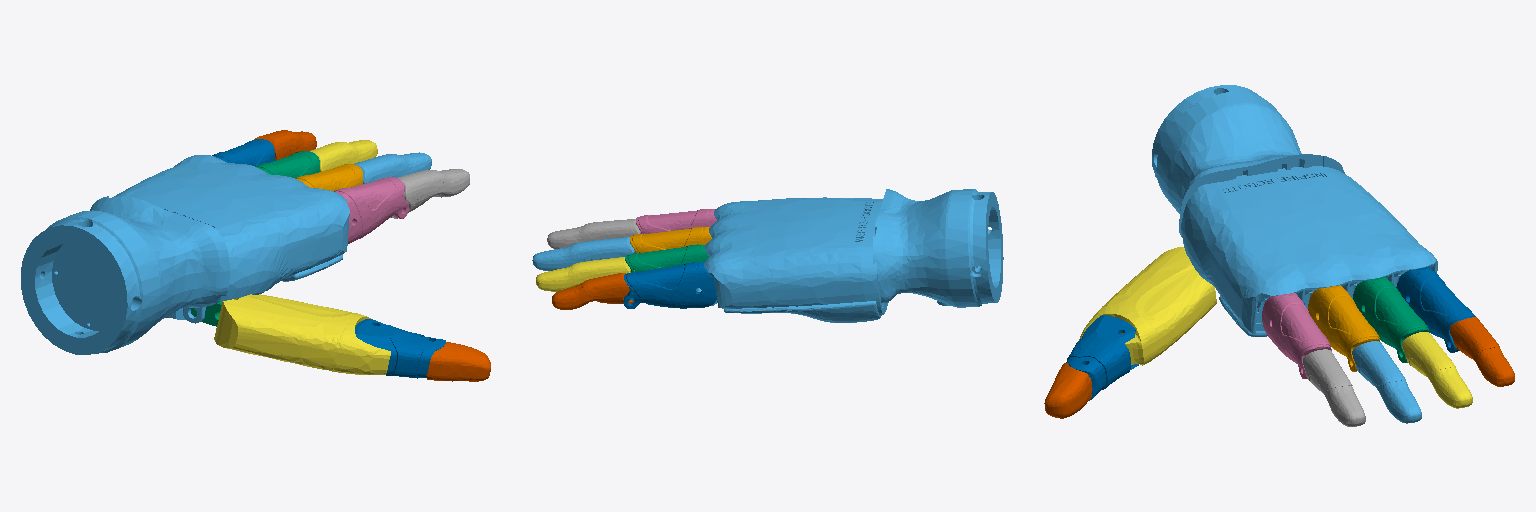
URDF robot description (inspire_hand_left):
<robot name="inspire_hand_left">
  
  <link name="base" />
  <joint name="base_joint" type="fixed">
    <parent link="base" />
    <child link="hand_base_link" />

    <origin xyz="-0.05 -0.01 0.02" rpy="-1.67159 -1.67159 -2.64159" /> 
  </joint>
  <link name="hand_base_link">
    <parent link="base" />
    <inertial>
      <origin xyz="-0.0025264 -0.066047 -0.0019598" rpy="0 0 0" />
      <mass value="0.14143" />
      <inertia ixx="0.00012281" ixy="2.1711E-06" ixz="1.7709E-06" iyy="8.3832E-05" iyz="-1.6551E-06" izz="7.6663E-05" />
    </inertial>
    <visual>
      <origin xyz="0 0 0" rpy="0 0 0" />
      <geometry>
        <mesh filename="meshes/visual/left_base_link.obj" />
      </geometry>
    </visual>
    <collision>
      <origin xyz="0 -0.0136 0" rpy="1.57079 0 0" />
      <geometry>
        <cylinder length="0.0278" radius="0.028" />
      </geometry>
    </collision>
    <collision>
      <origin xyz="-0.0032 -0.038 0" rpy="0 0 0" />
      <geometry>
        <box size="0.0391 0.0202 0.0574" />
      </geometry>
    </collision>
    <collision>
      <origin xyz="-0.0032 -0.0682 0" rpy="0 0 0" />
      <geometry>
        <box size="0.0391 0.04 0.0814" />
      </geometry>
    </collision>
    <collision>
      <origin xyz="0 -0.1081 0" rpy="0 0 0" />
      <geometry>
        <box size="0.0322 0.04 0.0814" />
      </geometry>
    </collision>
    <collision>
      <origin xyz="-0.0016 -0.1340 -0.0309" rpy="0 0 0" />
      <geometry>
        <box size="0.0125 0.0111 0.0089" />
      </geometry>
    </collision>
    <collision>
      <origin xyz="-0.0016 -0.1340 -0.0118" rpy="0 0 0" />
      <geometry>
        <box size="0.0125 0.0111 0.0089" />
      </geometry>
    </collision>
    <collision>
      <origin xyz="-0.0016 -0.1340 0.0070" rpy="0 0 0" />
      <geometry>
        <box size="0.0125 0.0111 0.0089" />
      </geometry>
    </collision>
    <collision>
      <origin xyz="-0.0016 -0.1340 0.0262" rpy="0 0 0" />
      <geometry>
        <box size="0.0125 0.0111 0.0089" />
      </geometry>
    </collision>
  </link>
  <link name="thumb_proximal_base">
    <inertial>
      <origin xyz="0.0048817 0.0009382 -0.00722" rpy="0 0 0" />
      <mass value="0.0018869" />
      <inertia ixx="5.816E-08" ixy="-1.4539E-08" ixz="-4.491E-09" iyy="7.9161E-08" iyz="-1.8727E-09" izz="6.7433E-08" />
    </inertial>
    <visual>
      <origin xyz="0 0 0" rpy="0 0 0" />
      <geometry>
        <mesh filename="meshes/visual/left_thumb_proximal_base.obj" />
      </geometry>
    </visual>
    <collision>
      <origin xyz="0 0 0" rpy="0 0 0" />
      <geometry>
        <mesh filename="meshes/collision/left_thumb_proximal_base.obj" />
      </geometry>
    </collision>
  </link>
  <joint name="thumb_proximal_yaw_joint" type="revolute">
    <origin xyz="-0.01696 -0.0691 0.02045" rpy="1.5708 -1.5708 0" />
    <parent link="hand_base_link" />
    <child link="thumb_proximal_base" />
    <axis xyz="0 0 1" />
    <limit lower="0" upper="1.308" effort="1" velocity="0.5" />
  </joint>
  <link name="thumb_proximal">
    <inertial>
      <origin xyz="0.021932 -0.012785 -0.0080386" rpy="0 0 0" />
      <mass value="0.0066075" />
      <inertia ixx="1.5686E-06" ixy="7.8296E-07" ixz="8.9143E-10" iyy="1.7353E-06" iyz="1.0191E-09" izz="2.786E-06" />
    </inertial>
    <visual>
      <origin xyz="0 0 0" rpy="0 0 0" />
      <geometry>
        <mesh filename="meshes/visual/left_thumb_proximal.obj" />
      </geometry>
    </visual>
    <collision>
      <origin xyz="0 0 0" rpy="0 0 0" />
      <geometry>
        <mesh filename="meshes/collision/left_thumb_proximal.obj" />
      </geometry>
    </collision>
  </link>
  <joint name="thumb_proximal_pitch_joint" type="revolute">
    <origin xyz="0.0099867 0.0098242 -0.0089" rpy="-1.5708 0 0.16939" />
    <parent link="thumb_proximal_base" />
    <child link="thumb_proximal" />
    <axis xyz="0 0 -1" />
    <limit lower="0" upper="0.6" effort="1" velocity="0.5" />
  </joint>
  <link name="thumb_intermediate">
    <inertial>
      <origin xyz="0.0095544 0.0016282 -0.0071997" rpy="0 0 0" />
      <mass value="0.0037847" />
      <inertia ixx="3.6981E-07" ixy="9.8581E-08" ixz="-4.7469E-12" iyy="3.2394E-07" iyz="-1.0939E-12" izz="4.6531E-07" />
    </inertial>
    <visual>
      <origin xyz="0 0 0" rpy="0 0 0" />
      <geometry>
        <mesh filename="meshes/visual/left_thumb_intermediate.obj" />
      </geometry>
    </visual>
    <collision>
      <origin xyz="0 0 0" rpy="0 0 0" />
      <geometry>
        <mesh filename="meshes/collision/left_thumb_intermediate.obj" />
      </geometry>
    </collision>
  </link>
  <joint name="thumb_intermediate_joint" type="revolute">
    <origin xyz="0.04407 -0.034553 -0.0008" rpy="0 0 0" />
    <parent link="thumb_proximal" />
    <child link="thumb_intermediate" />
    <axis xyz="0 0 -1" />
    <limit lower="0" upper="0.8" effort="1" velocity="0.5" />
    <mimic joint="thumb_proximal_pitch_joint" multiplier="1.334" offset="0" />
  </joint>
  <link name="thumb_distal">
    <inertial>
      <origin xyz="0.0092888 -0.0049529 -0.0060033" rpy="0 0 0" />
      <mass value="0.0033441" />
      <inertia ixx="1.3632E-07" ixy="5.6788E-08" ixz="-9.2764E-11" iyy="1.4052E-07" iyz="1.2283E-10" izz="2.0026E-07" />
    </inertial>
    <visual>
      <origin xyz="0 0 0" rpy="0 0 0" />
      <geometry>
        <mesh filename="meshes/visual/left_thumb_distal.obj" />
      </geometry>
    </visual>
    <collision>
      <origin xyz="0 0 0" rpy="0 0 0" />
      <geometry>
        <mesh filename="meshes/collision/left_thumb_distal.obj" scale="1 1 1" />
      </geometry>
    </collision>
  </link>
  <joint name="thumb_distal_joint" type="revolute">
    <origin xyz="0.020248 -0.010156 -0.0012" rpy="0 0 0" />
    <parent link="thumb_intermediate" />
    <child link="thumb_distal" />
    <axis xyz="0 0 -1" />
    <limit lower="0" upper="0.4" effort="1" velocity="0.5" />
    <mimic joint="thumb_proximal_pitch_joint" multiplier="0.667" offset="0" />
  </joint>
  <link name="index_proximal">
    <inertial>
      <origin xyz="0.0012259 -0.011942 -0.0060001" rpy="0 0 0" />
      <mass value="0.0042403" />
      <inertia ixx="6.6232E-07" ixy="1.5775E-08" ixz="1.8515E-12" iyy="2.1146E-07" iyz="5.0828E-12" izz="6.9398E-07" />
    </inertial>
    <visual>
      <origin xyz="0 0 0" rpy="0 0 0" />
      <geometry>
        <mesh filename="meshes/visual/left_index_proximal.obj" />
      </geometry>
    </visual>
    <collision>
      <origin xyz="0 0 0" rpy="0 0 0" />
      <geometry>
        <mesh filename="meshes/collision/left_index_proximal.obj" />
      </geometry>
    </collision>
  </link>
  <joint name="index_proximal_joint" type="revolute">
    <origin xyz="0.00028533 -0.13653 0.032268" rpy="-0.034907 0 0" />
    <parent link="hand_base_link" />
    <child link="index_proximal" />
    <axis xyz="0 0 -1" />
    <limit lower="0" upper="1.47" effort="1" velocity="0.5" />
  </joint>
  <link name="index_intermediate">
    <inertial>
      <origin xyz="0.0019697 -0.019589 -0.005" rpy="0 0 0" />
      <mass value="0.0045683" />
      <inertia ixx="7.6111E-07" ixy="-8.7637E-08" ixz="-3.7751E-13" iyy="9.6076E-08" iyz="-9.9444E-13" izz="7.8179E-07" />
    </inertial>
    <visual>
      <origin xyz="0 0 0" rpy="0 0 0" />
      <geometry>
        <mesh filename="meshes/visual/left_index_intermediate.obj" />
      </geometry>
    </visual>
    <collision>
      <origin xyz="0 0 0" rpy="0 0 0" />
      <geometry>
        <mesh filename="meshes/collision/left_index_intermediate.obj" />
      </geometry>
    </collision>
  </link>
  <joint name="index_intermediate_joint" type="revolute">
    <origin xyz="-0.0026138 -0.032026 -0.001" rpy="0 0 0" />
    <parent link="index_proximal" />
    <child link="index_intermediate" />
    <axis xyz="0 0 -1" />
    <limit lower="-0.04545" upper="1.56" effort="1" velocity="0.5" />
    <mimic joint="index_proximal_joint" multiplier="1.06399" offset="-0.04545" />
  </joint>
  <link name="middle_proximal">
    <inertial>
      <origin xyz="0.001297 -0.011934 -0.0060001" rpy="0 0 0" />
      <mass value="0.0042403" />
      <inertia ixx="6.6211E-07" ixy="1.8461E-08" ixz="1.8002E-12" iyy="2.1167E-07" iyz="6.6808E-12" izz="6.9397E-07" />
    </inertial>
    <visual>
      <origin xyz="0 0 0" rpy="0 0 0" />
      <geometry>
        <mesh filename="meshes/visual/left_index_proximal.obj" />
      </geometry>
    </visual>
    <collision>
      <origin xyz="0 0 0" rpy="0 0 0" />
      <geometry>
        <mesh filename="meshes/collision/left_index_proximal.obj" />
      </geometry>
    </collision>
  </link>
  <joint name="middle_proximal_joint" type="revolute">
    <origin xyz="0.00028533 -0.1371 0.01295" rpy="0 0 0" />
    <parent link="hand_base_link" />
    <child link="middle_proximal" />
    <axis xyz="0 0 -1" />
    <limit lower="0" upper="1.47" effort="1" velocity="0.5" />
  </joint>
  <link name="middle_intermediate">
    <inertial>
      <origin xyz="0.001921 -0.020796 -0.005" rpy="0 0 0" />
      <mass value="0.0050396" />
      <inertia ixx="9.5822E-07" ixy="-1.1425E-07" ixz="-2.4791E-12" iyy="1.0646E-07" iyz="-5.9173E-12" izz="9.8384E-07" />
    </inertial>
    <visual>
      <origin xyz="0 0 0" rpy="0 0 0" />
      <geometry>
        <mesh filename="meshes/visual/left_middle_intermediate.obj" />
      </geometry>
    </visual>
    <collision>
      <origin xyz="0 0 0" rpy="0 0 0" />
      <geometry>
        <mesh filename="meshes/collision/left_middle_intermediate.obj" />
      </geometry>
    </collision>
  </link>
  <joint name="middle_intermediate_joint" type="revolute">
    <origin xyz="-0.0024229 -0.032041 -0.001" rpy="0 0 0" />
    <parent link="middle_proximal" />
    <child link="middle_intermediate" />
    <axis xyz="0 0 -1" />
    <limit lower="-0.04545" upper="1.56" effort="1" velocity="0.5" />
    <mimic joint="middle_proximal_joint" multiplier="1.06399" offset="-0.04545" />
  </joint>
  <link name="ring_proximal">
    <inertial>
      <origin xyz="0.001297 -0.011934 -0.0060002" rpy="0 0 0" />
      <mass value="0.0042403" />
      <inertia ixx="6.6211E-07" ixy="1.8461E-08" ixz="1.5793E-12" iyy="2.1167E-07" iyz="6.6868E-12" izz="6.9397E-07" />
    </inertial>
    <visual>
      <origin xyz="0 0 0" rpy="0 0 0" />
      <geometry>
        <mesh filename="meshes/visual/left_index_proximal.obj" />
      </geometry>
    </visual>
    <collision>
      <origin xyz="0 0 0" rpy="0 0 0" />
      <geometry>
        <mesh filename="meshes/collision/left_index_proximal.obj" />
      </geometry>
    </collision>
  </link>
  <joint name="ring_proximal_joint" type="revolute">
    <origin xyz="0.00028533 -0.13691 -0.0062872" rpy="0.05236 0 0" />
    <parent link="hand_base_link" />
    <child link="ring_proximal" />
    <axis xyz="0 0 -1" />
    <limit lower="0" upper="1.47" effort="1" velocity="0.5" />
  </joint>
  <link name="ring_intermediate">
    <inertial>
      <origin xyz="0.0021753 -0.019567 -0.005" rpy="0 0 0" />
      <mass value="0.0045683" />
      <inertia ixx="7.6286E-07" ixy="-8.0635E-08" ixz="-6.1562E-13" iyy="9.431E-08" iyz="-5.8619E-13" izz="7.8177E-07" />
    </inertial>
    <visual>
      <origin xyz="0 0 0" rpy="0 0 0" />
      <geometry>
        <mesh filename="meshes/visual/left_index_intermediate.obj" />
      </geometry>
    </visual>
    <collision>
      <origin xyz="0 0 0" rpy="0 0 0" />
      <geometry>
        <mesh filename="meshes/collision/left_index_intermediate.obj" />
      </geometry>
    </collision>
  </link>
  <joint name="ring_intermediate_joint" type="revolute">
    <origin xyz="-0.0024229 -0.032041 -0.001" rpy="0 0 0" />
    <parent link="ring_proximal" />
    <child link="ring_intermediate" />
    <axis xyz="0 0 -1" />
    <limit lower="-0.04545" upper="1.56" effort="1" velocity="0.5" />
    <mimic joint="ring_proximal_joint" multiplier="1.06399" offset="-0.04545" />
  </joint>
  <link name="pinky_proximal">
    <inertial>
      <origin xyz="0.001297 -0.011934 -0.0060001" rpy="0 0 0" />
      <mass value="0.0042403" />
      <inertia ixx="6.6211E-07" ixy="1.8461E-08" ixz="1.6907E-12" iyy="2.1167E-07" iyz="6.9334E-12" izz="6.9397E-07" />
    </inertial>
    <visual>
      <origin xyz="0 0 0" rpy="0 0 0" />
      <geometry>
        <mesh filename="meshes/visual/left_index_proximal.obj" />
      </geometry>
    </visual>
    <collision>
      <origin xyz="0 0 0" rpy="0 0 0" />
      <geometry>
        <mesh filename="meshes/collision/left_index_proximal.obj" />
      </geometry>
    </collision>
  </link>
  <joint name="pinky_proximal_joint" type="revolute">
    <origin xyz="0.00028533 -0.13571 -0.025488" rpy="0.10472 0 0" />
    <parent link="hand_base_link" />
    <child link="pinky_proximal" />
    <axis xyz="0 0 -1" />
    <limit lower="0" upper="1.47" effort="1" velocity="0.5" />
  </joint>
  <link name="pinky_intermediate">
    <inertial>
      <origin xyz="0.0024748 -0.016203 -0.0050031" rpy="0 0 0" />
      <mass value="0.0035996" />
      <inertia ixx="4.3913E-07" ixy="-4.1418E-08" ixz="3.7168E-11" iyy="7.0247E-08" iyz="-5.8613E-11" izz="4.4867E-07" />
    </inertial>
    <visual>
      <origin xyz="0 0 0" rpy="0 0 0" />
      <geometry>
        <mesh filename="meshes/visual/left_pinky_intermediate.obj" />
      </geometry>
    </visual>
    <collision>
      <origin xyz="0 0 0" rpy="0 0 0" />
      <geometry>
        <mesh filename="meshes/collision/left_pinky_intermediate.obj" />
      </geometry>
    </collision>
  </link>
  <joint name="pinky_intermediate_joint" type="revolute">
    <origin xyz="-0.0024229 -0.032041 -0.001" rpy="0 0 0" />
    <parent link="pinky_proximal" />
    <child link="pinky_intermediate" />
    <axis xyz="0 0 -1" />
    <limit lower="-0.04545" upper="1.56" effort="1" velocity="0.5" />
    <mimic joint="pinky_proximal_joint" multiplier="1.06399" offset="-0.04545" />
  </joint>

  <link name="thumb_tip" />
  <joint name="thumb_tip_joint" type="fixed">
    <origin xyz="0.0202 -0.0140 -0.006" rpy="0 0 0" />
    <parent link="thumb_distal" />
    <child link="thumb_tip" />
  </joint>
  <link name="index_tip" />
  <joint name="index_tip_joint" type="fixed">
    <origin xyz="-0.0008 -0.045 -0.005" rpy="0 0 0" />
    <parent link="index_intermediate" />
    <child link="index_tip" />
  </joint>
  <link name="middle_tip" />
  <joint name="middle_tip_joint" type="fixed">
    <origin xyz="-0.001 -0.048 -0.005" rpy="0 0 0" />
    <parent link="middle_intermediate" />
    <child link="middle_tip" />
  </joint>
  <link name="ring_tip" />
  <joint name="ring_tip_joint" type="fixed">
    <origin xyz="-0.0008 -0.045 -0.005" rpy="0 0 0" />
    <parent link="ring_intermediate" />
    <child link="ring_tip" />
  </joint>
  <link name="pinky_tip" />
  <joint name="pinky_tip_joint" type="fixed">
    <origin xyz="-0.0008 -0.037 -0.005" rpy="0 0 0" />
    <parent link="pinky_intermediate" />
    <child link="pinky_tip" />
  </joint>
</robot>

--- Facts derived from the render (not from the file) ---
3 views of the same robot in one strip: view 1: azimuth 30°, elevation 25°; view 2: azimuth 150°, elevation 25°; view 3: azimuth 270°, elevation 25° (orthographic).
Robot: inspire_hand_left — 19 links, 18 joints (12 revolute, 6 fixed); root link base; default pose: every joint at zero.
Visible links, largest first — view 1: hand_base_link, thumb_proximal, thumb_intermediate, index_proximal, thumb_distal, index_intermediate, middle_intermediate, ring_intermediate, middle_proximal, ring_proximal, pinky_proximal, pinky_intermediate; view 2: hand_base_link, pinky_proximal, middle_intermediate, pinky_intermediate, ring_intermediate, index_intermediate, ring_proximal, middle_proximal, index_proximal; view 3: hand_base_link, thumb_proximal, thumb_intermediate, ring_proximal, pinky_proximal, index_proximal, middle_proximal, middle_intermediate, ring_intermediate, index_intermediate, pinky_intermediate, thumb_distal.
Link boxes in pixels (x1=…): hand_base_link: x1=21, y1=155, x2=349, y2=354; thumb_proximal: x1=214, y1=294, x2=390, y2=374; thumb_intermediate: x1=355, y1=319, x2=445, y2=378; index_proximal: x1=334, y1=177, x2=408, y2=243; thumb_distal: x1=426, y1=342, x2=490, y2=381; index_intermediate: x1=390, y1=169, x2=469, y2=218; middle_intermediate: x1=354, y1=152, x2=431, y2=183; ring_intermediate: x1=310, y1=140, x2=377, y2=171; middle_proximal: x1=295, y1=164, x2=362, y2=190; ring_proximal: x1=255, y1=151, x2=319, y2=177; pinky_proximal: x1=212, y1=139, x2=275, y2=165; pinky_intermediate: x1=254, y1=130, x2=316, y2=159; hand_base_link: x1=696, y1=189, x2=1003, y2=322; pinky_proximal: x1=623, y1=262, x2=716, y2=308; middle_intermediate: x1=532, y1=237, x2=634, y2=270; pinky_intermediate: x1=552, y1=273, x2=633, y2=309; ring_intermediate: x1=536, y1=257, x2=634, y2=291; index_intermediate: x1=547, y1=219, x2=640, y2=248; ring_proximal: x1=625, y1=244, x2=709, y2=271; middle_proximal: x1=630, y1=227, x2=711, y2=252; index_proximal: x1=636, y1=209, x2=716, y2=233; hand_base_link: x1=1152, y1=85, x2=1437, y2=336; thumb_proximal: x1=1079, y1=247, x2=1216, y2=365; thumb_intermediate: x1=1066, y1=315, x2=1138, y2=400; ring_proximal: x1=1353, y1=277, x2=1428, y2=362; pinky_proximal: x1=1396, y1=267, x2=1475, y2=352; index_proximal: x1=1262, y1=293, x2=1331, y2=378; middle_proximal: x1=1308, y1=285, x2=1379, y2=371; middle_intermediate: x1=1352, y1=341, x2=1421, y2=423; ring_intermediate: x1=1402, y1=332, x2=1472, y2=408; index_intermediate: x1=1303, y1=349, x2=1365, y2=426; pinky_intermediate: x1=1450, y1=317, x2=1514, y2=386; thumb_distal: x1=1044, y1=363, x2=1092, y2=418.
Size in the robot's own frame: 0.2183 by 0.182 by 0.0749 metres.
Meshes: 9 distinct files referenced, 13 mesh visuals loaded (9 OBJ).
